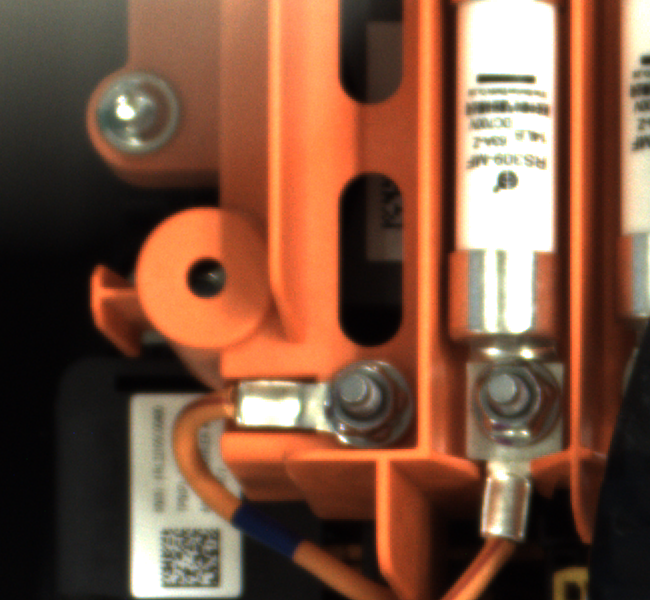screw_m: (79, 65, 189, 163)
screw_s: (456, 353, 568, 454), (319, 355, 415, 449)
